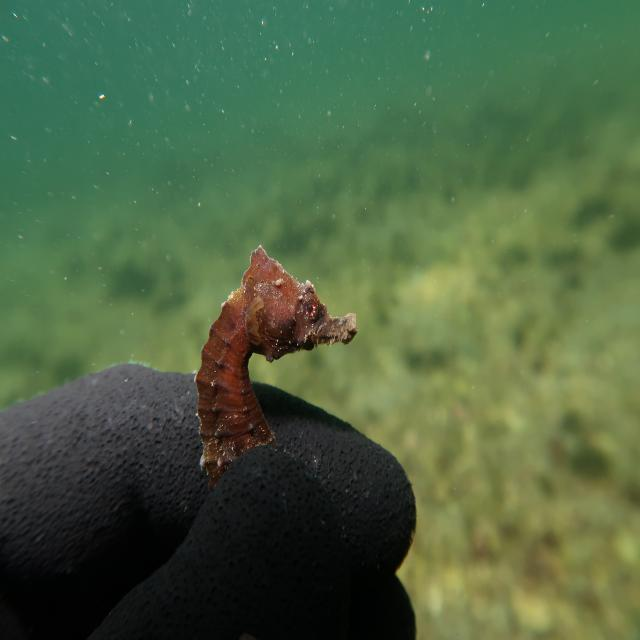Hippo: (234, 234, 362, 367)
